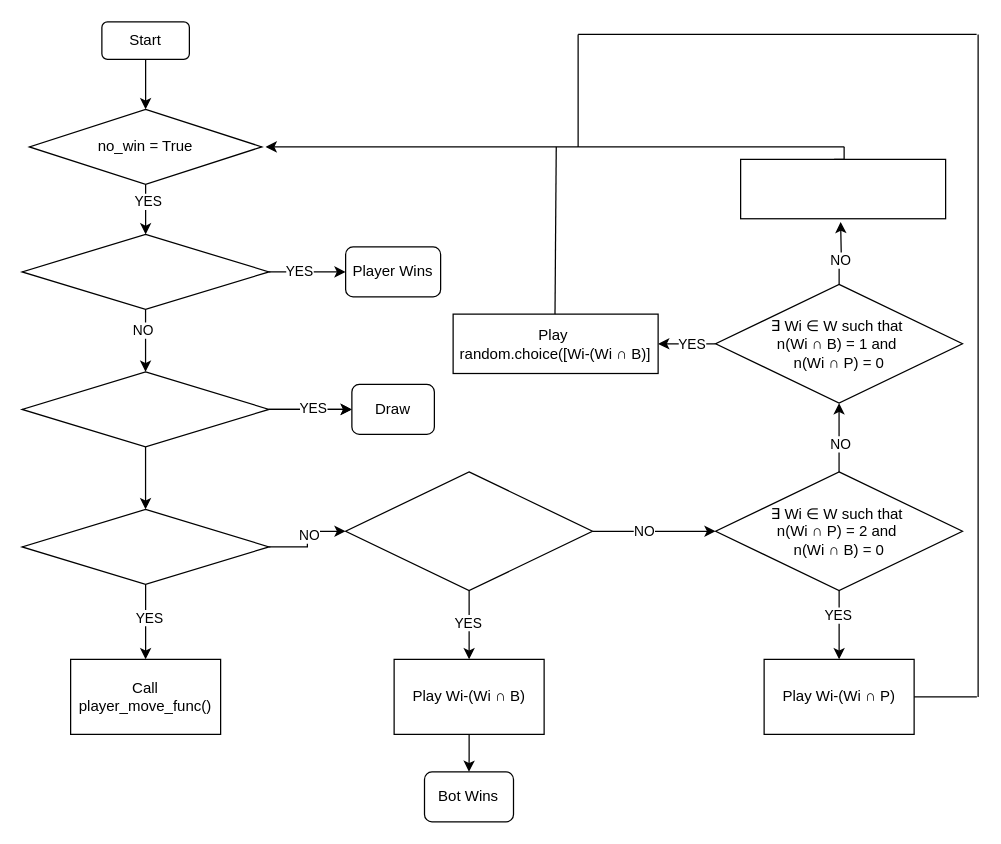
The diagram is 1001 pixels wide and 844 high, and some of its shapes have lost their labels. Each missing label, with the centre of its shape:
n(P) + n(B) = n(M): the point at 145,409
Play random.choice([M-(P ∪ B)]: the point at 842,188
Player has current move: the point at 145,546
∃ Wi ∈ W such that n(Wi ∩ B) = 2 and n(Wi ∩ P) = 0: the point at 468,531
∃Wi ∈ W:Wi ∈ P: the point at 145,271
